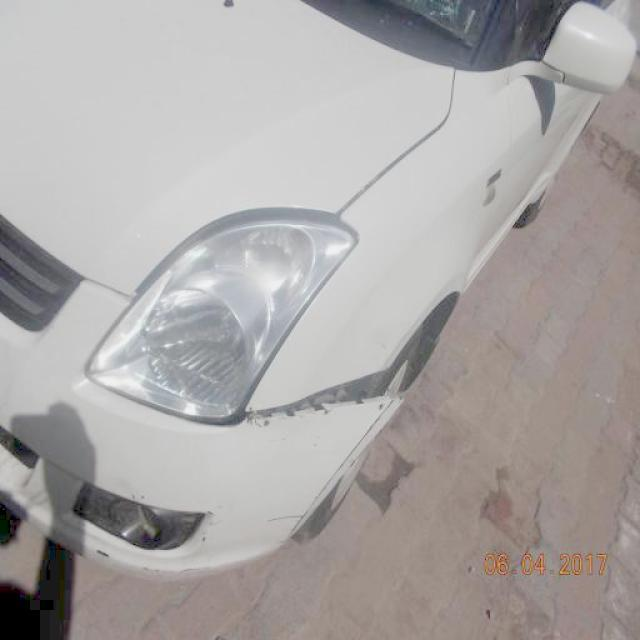car damage: (279, 416, 388, 537), (238, 359, 404, 425)
